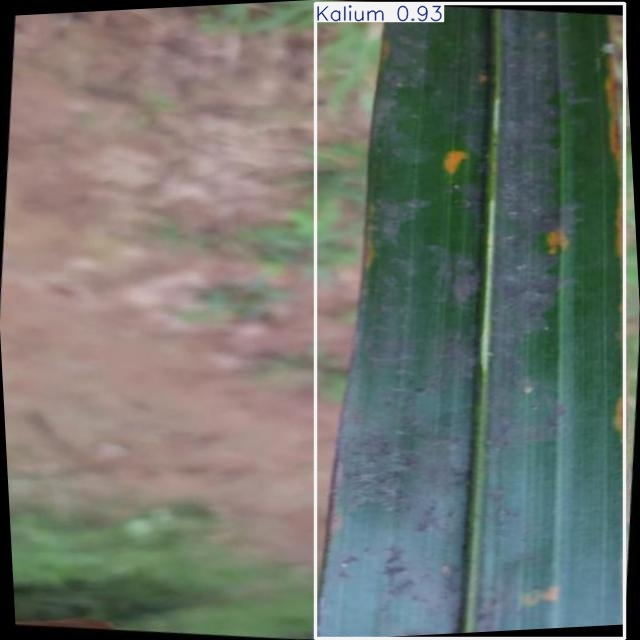Kalium: (315, 3, 624, 638)
